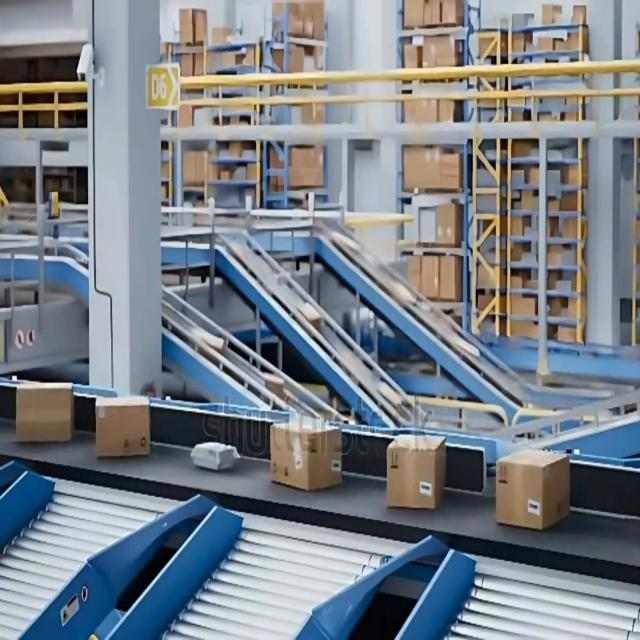product 1: (269, 417, 343, 491), (386, 433, 446, 510), (95, 395, 150, 458)
product 2: (190, 440, 239, 470)
